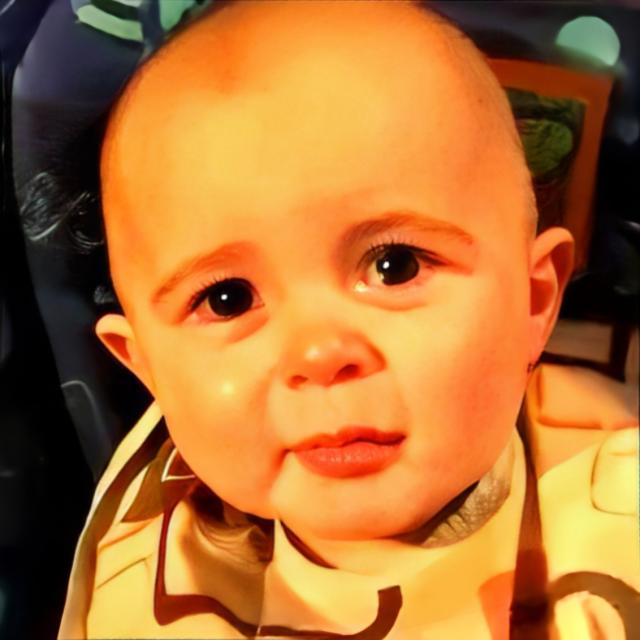sad: (97, 0, 532, 550)
